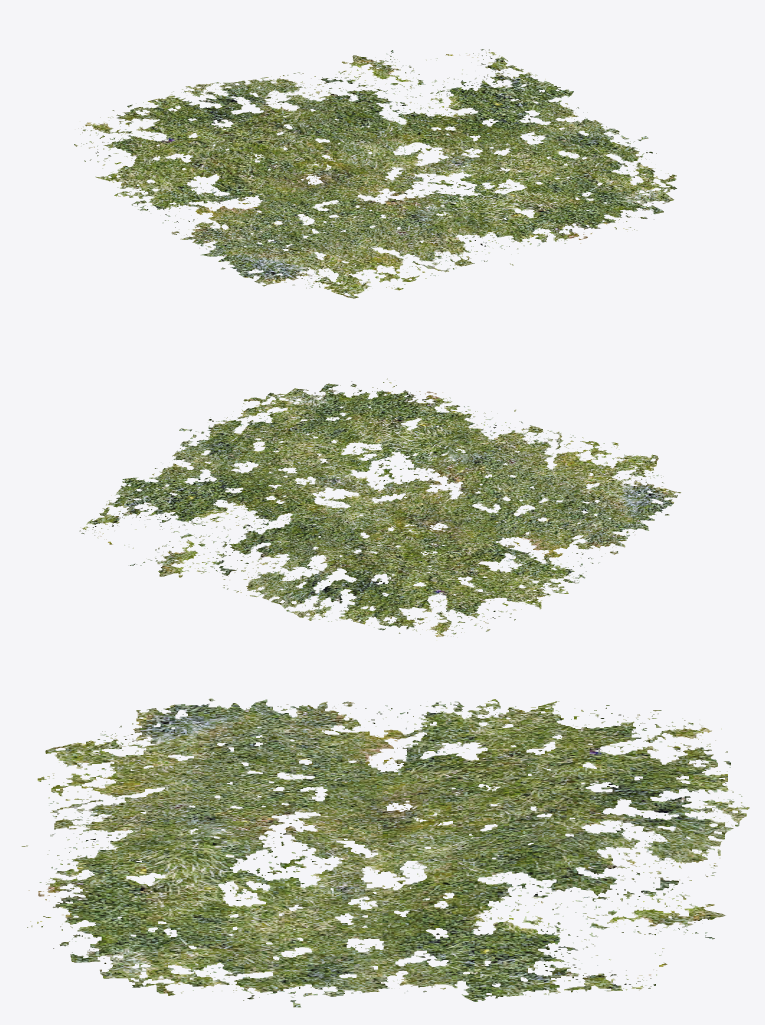
Rendered from underbrush_plane_large.dae.
3 views of the same model, one above another, from view 1: azimuth 30°, elevation 25°; view 2: azimuth 150°, elevation 25°; view 3: azimuth 270°, elevation 25° (orthographic). The views are drawn at different scales.
Visible parts, largest first — view 1: Plane08; view 2: Plane08; view 3: Plane08.
Boxes of the visible parts, x1=… form: Plane08: x1=74, y1=49, x2=676, y2=298; Plane08: x1=79, y1=378, x2=680, y2=640; Plane08: x1=21, y1=698, x2=749, y2=1007.
Size of the model in its own units: 6.61 by 0.192 by 6.61.
